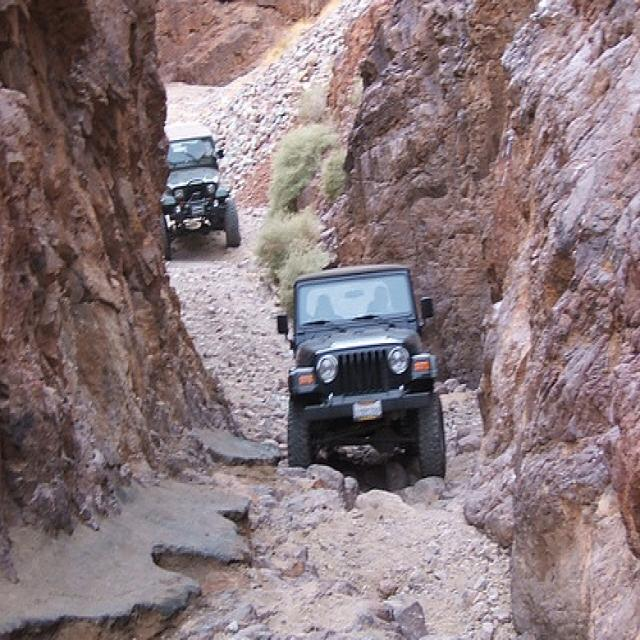car: (276, 261, 446, 487), (158, 126, 240, 261)
